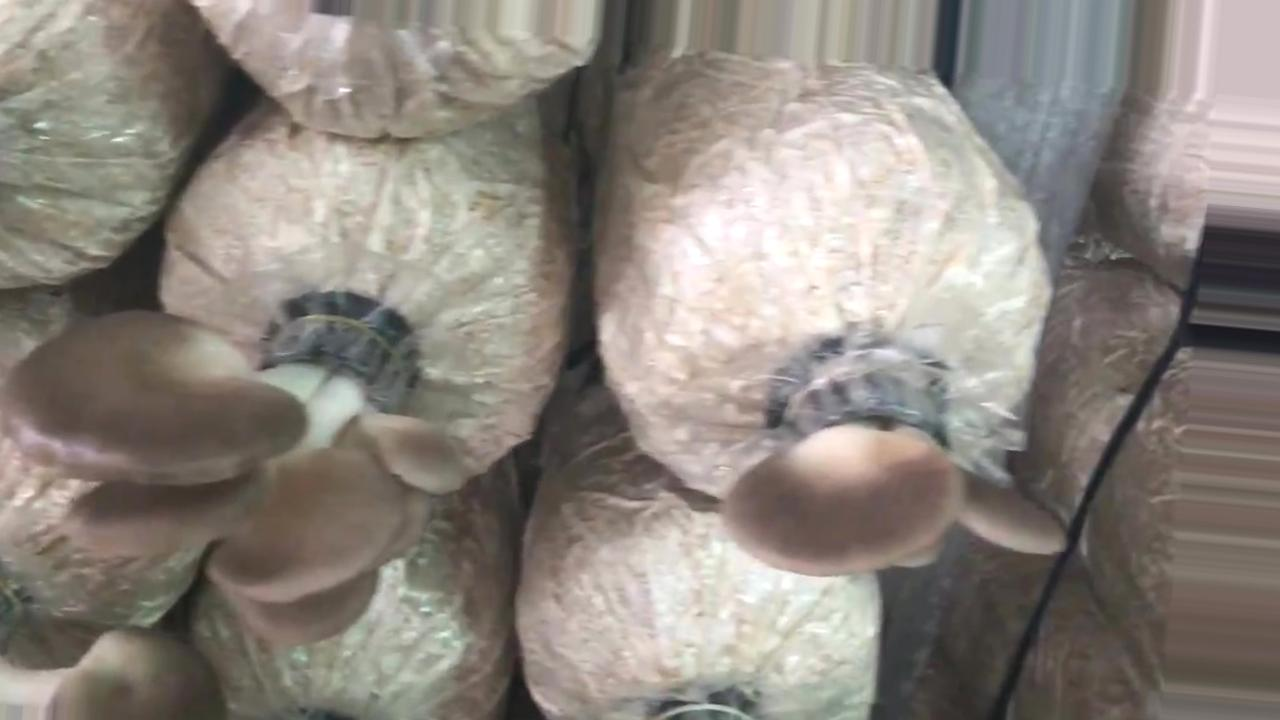nam: (3, 303, 477, 655), (724, 359, 1070, 574)
